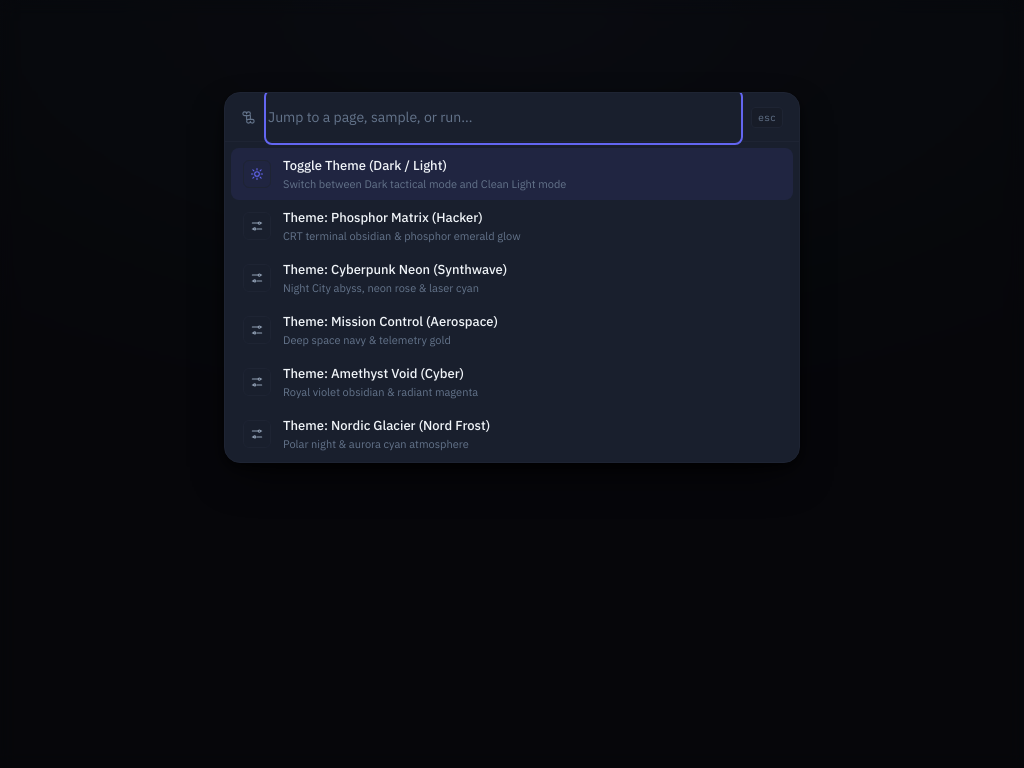
Test: CommandPalette reset action › an empty store reports nothing without throwing
Type "reset" into the field named "Search" at (504, 117), box [268, 93, 739, 141]
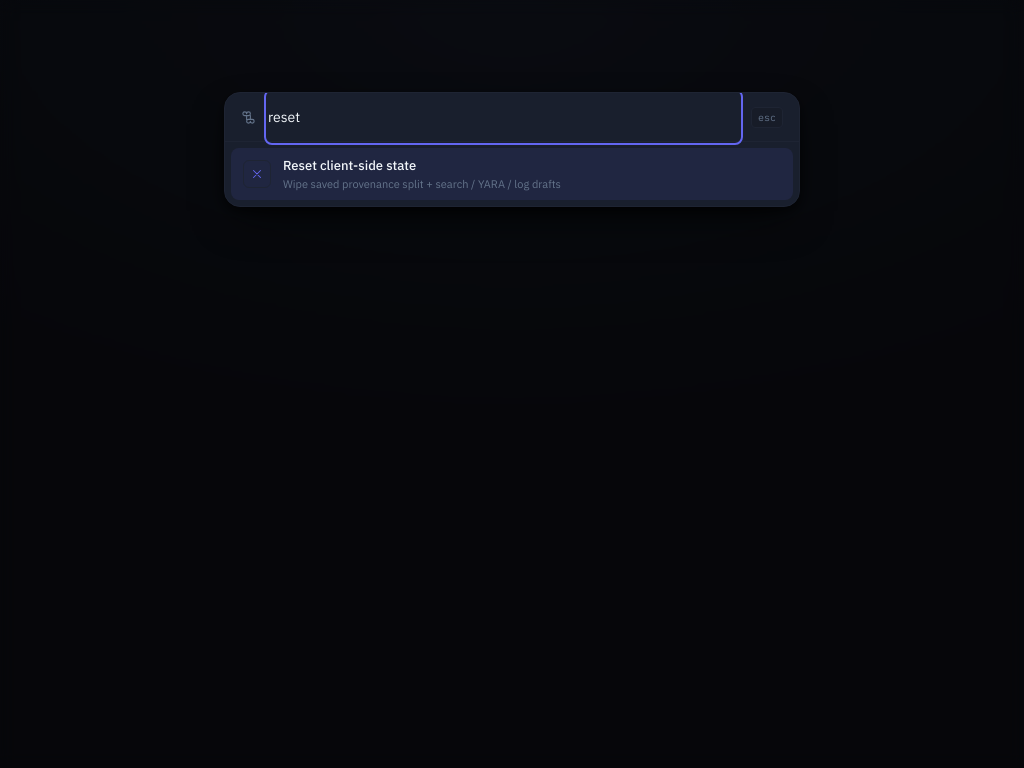
Press Enter in the field named "Search", box [268, 93, 739, 141]
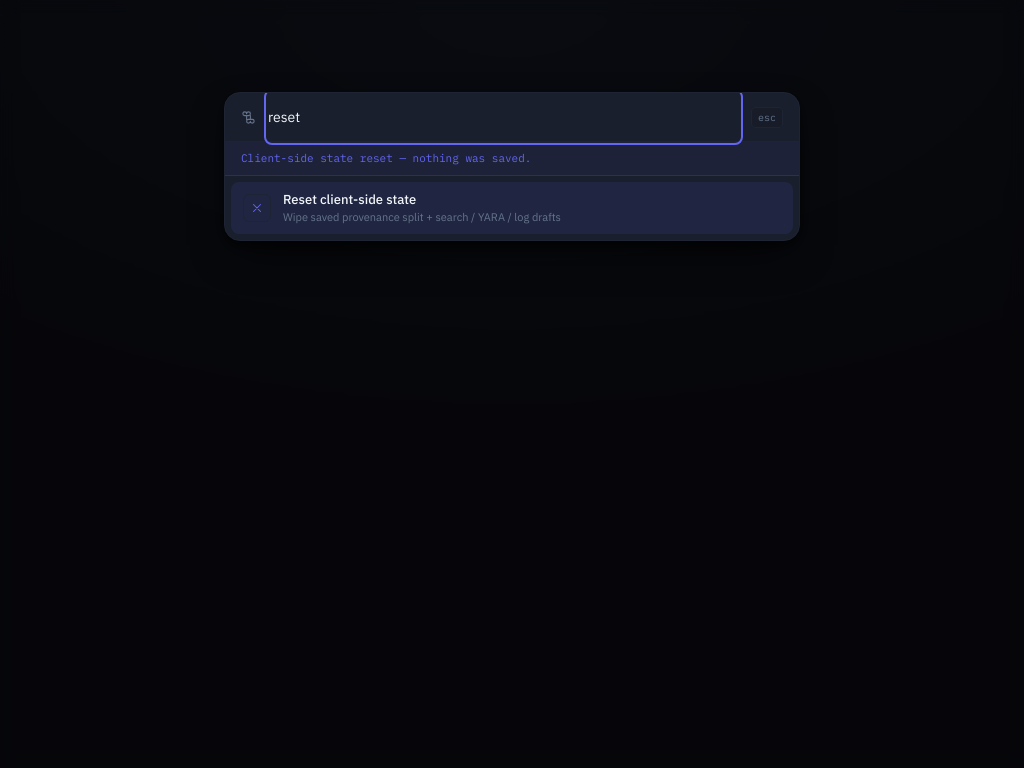
Result: the text "Client-side state reset — nothing was saved." is shown at [225, 142, 799, 176]
